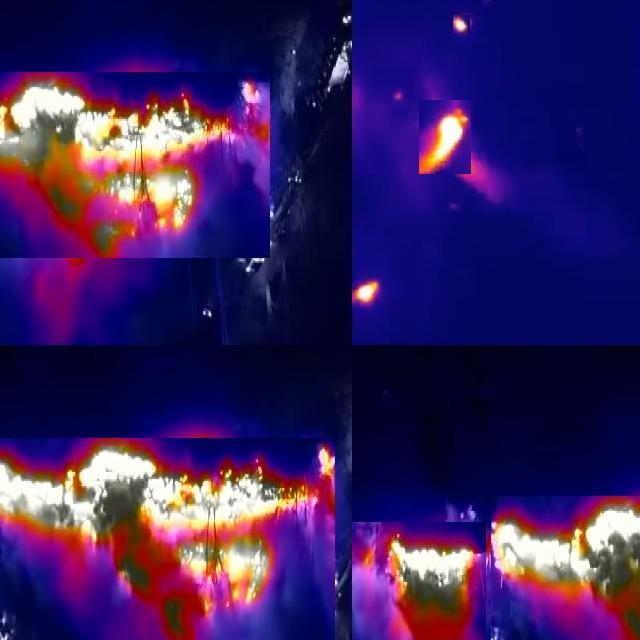fire: (1, 439, 336, 640), (1, 73, 271, 259), (492, 497, 640, 640), (353, 523, 487, 640), (420, 101, 472, 175), (353, 275, 381, 315), (454, 16, 471, 46)
